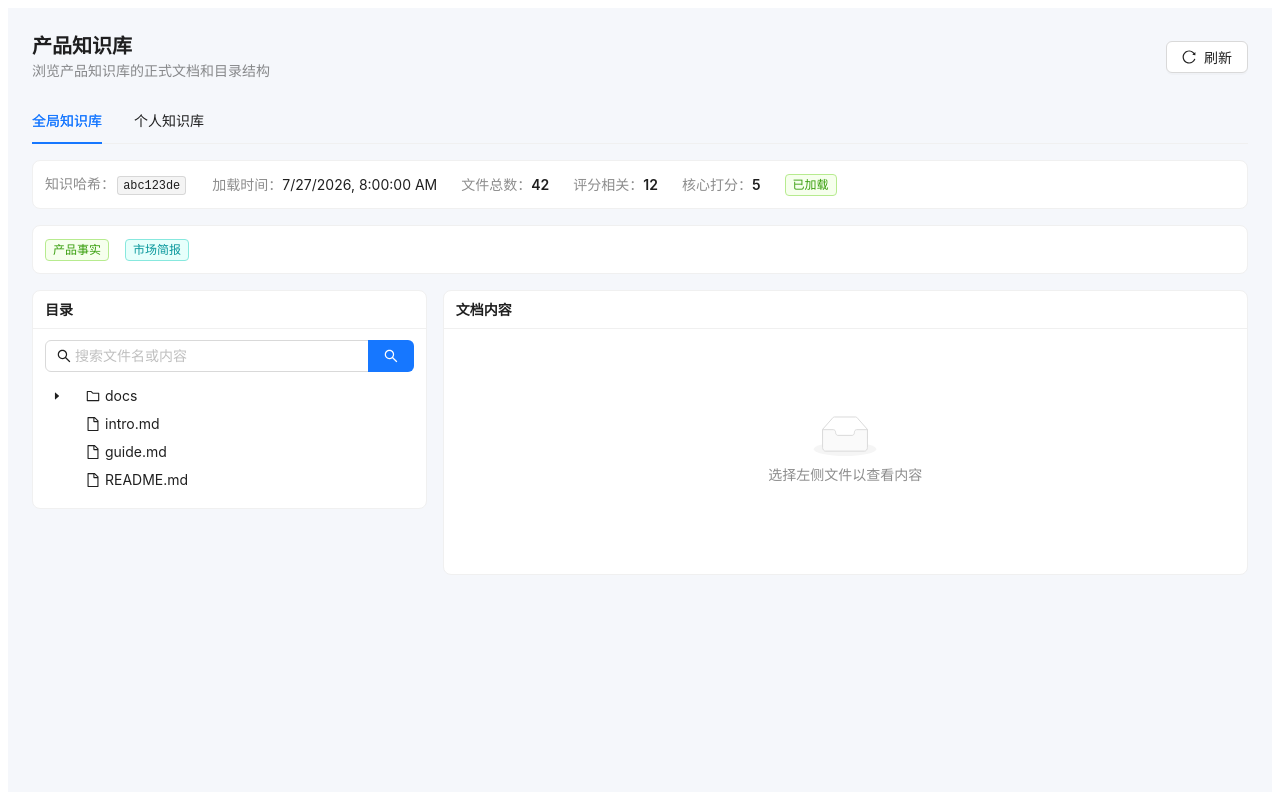
Test: ProductKnowledgePage › shows document metadata after loading
Step 1. Click the text "intro.md" → (132, 424), box [105,415,160,432]
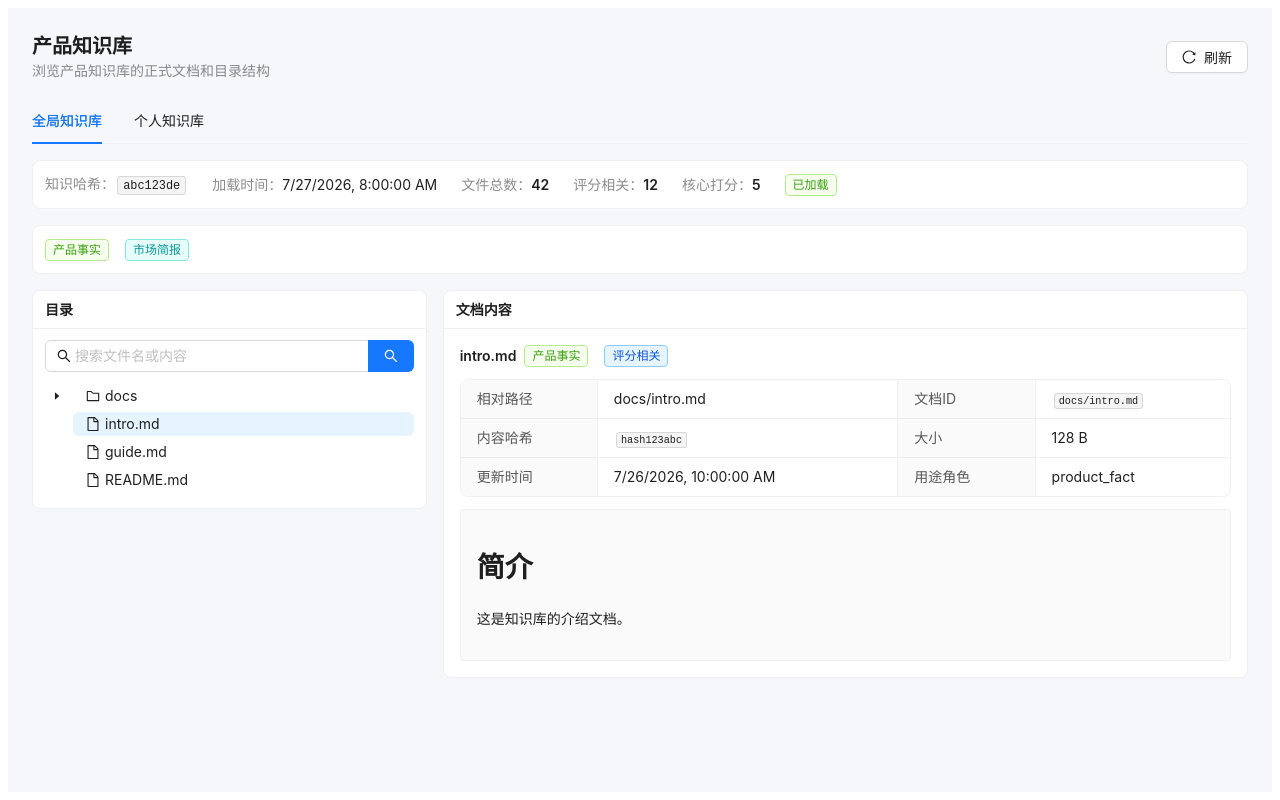
Result: the text "评分相关" is shown at [604,345,668,367]
